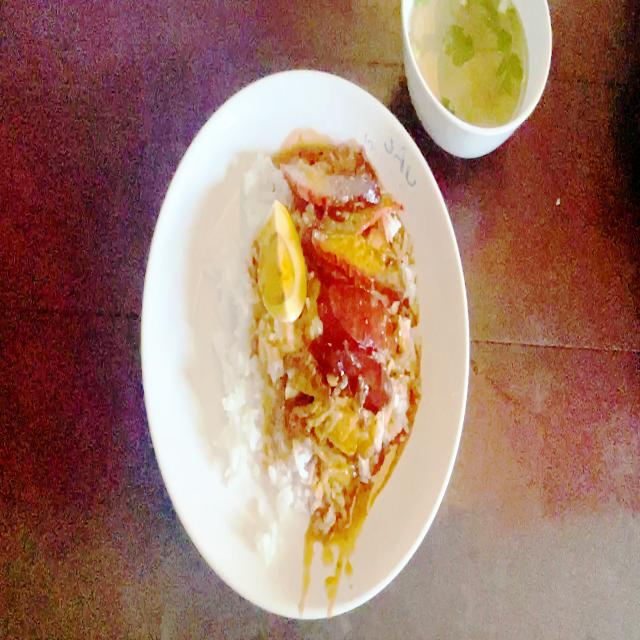boiled_egg: (261, 203, 302, 316)
chainese_sausage: (317, 291, 396, 398)
crispy_pork: (314, 409, 375, 471), (290, 358, 321, 397)
red_pork: (306, 202, 408, 278), (291, 169, 378, 207)
red_pork_and_crispy_pork: (216, 154, 402, 508)
rice: (223, 227, 257, 502), (242, 146, 284, 211), (266, 432, 301, 504)
